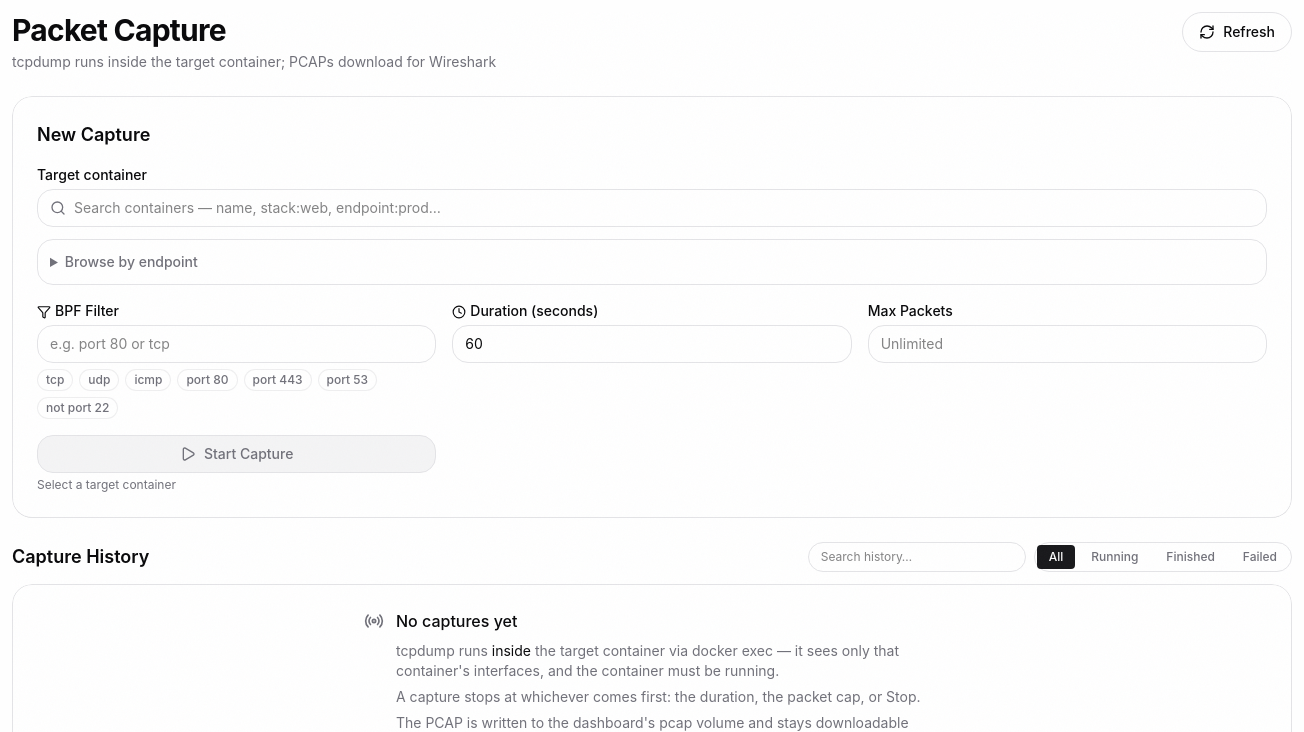
Test: PacketCapture › shows capture targets without selecting an endpoint first
The width and height of the screenshot is (1304, 732).
Type "api-1" into the dropdown named "Search capture target container". click: [664, 208]
box: top-left (74, 190), bottom-right (1254, 226)
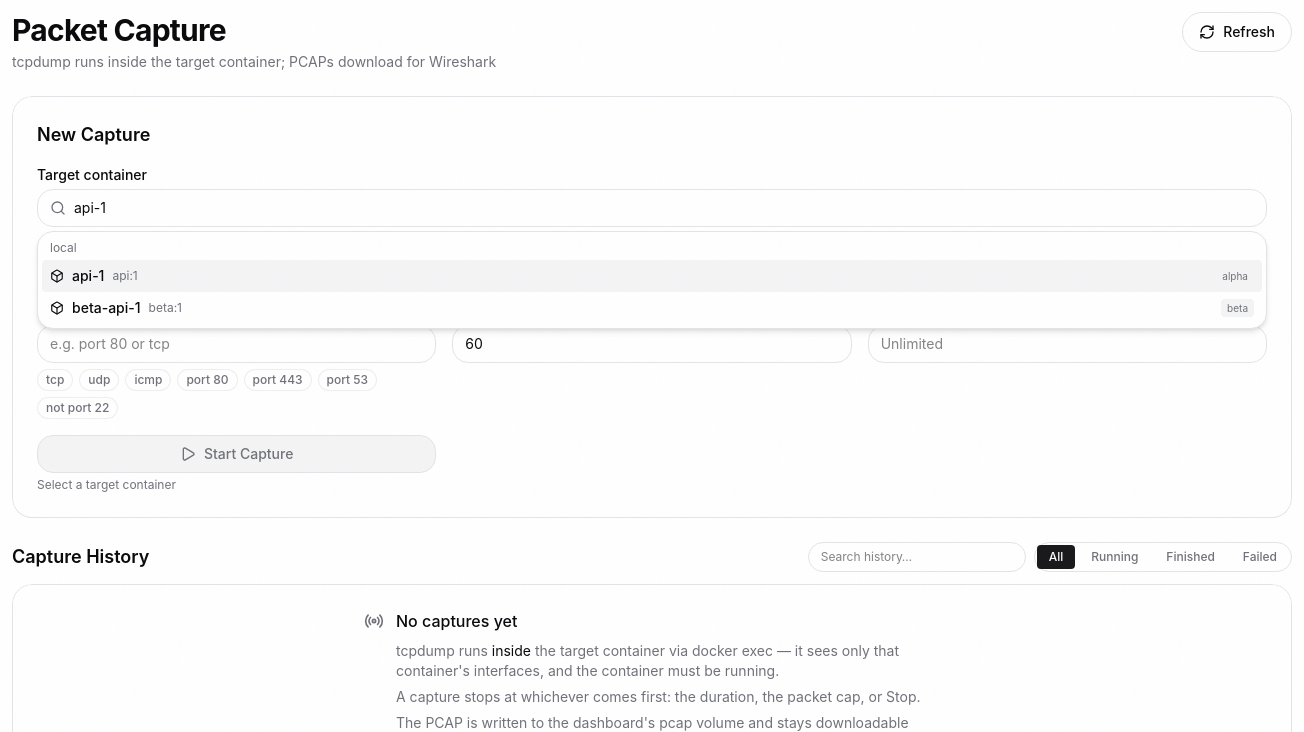
Expected: the text "api-1" is shown, top-left (72, 266), bottom-right (104, 286)
